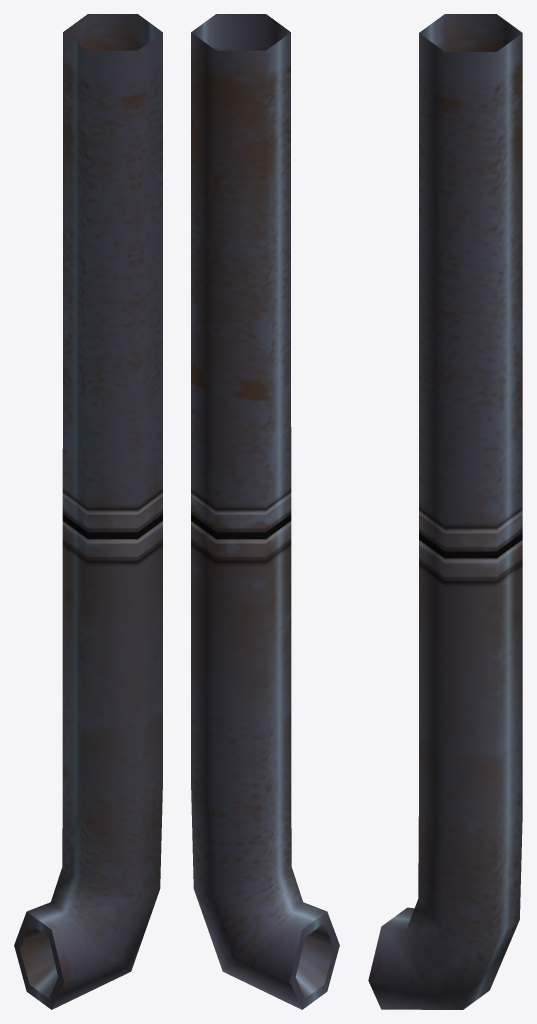
File: rainwaterPipe_bottom.fbx
3 views of the same model, side by side, from view 1: azimuth 30°, elevation 25°; view 2: azimuth 150°, elevation 25°; view 3: azimuth 330°, elevation 25° (orthographic). The views are drawn at different scales.
Parts seen in each view (by area): view 1: rainwaterPipe_bottom; view 2: rainwaterPipe_bottom; view 3: rainwaterPipe_bottom.
Part boxes in pixels (bbox=[...]): rainwaterPipe_bottom: bbox=[14, 14, 162, 1009]; rainwaterPipe_bottom: bbox=[191, 14, 339, 1009]; rainwaterPipe_bottom: bbox=[368, 14, 522, 1009].
Size of the model in its own units: 36.04 by 294 by 28.82.
